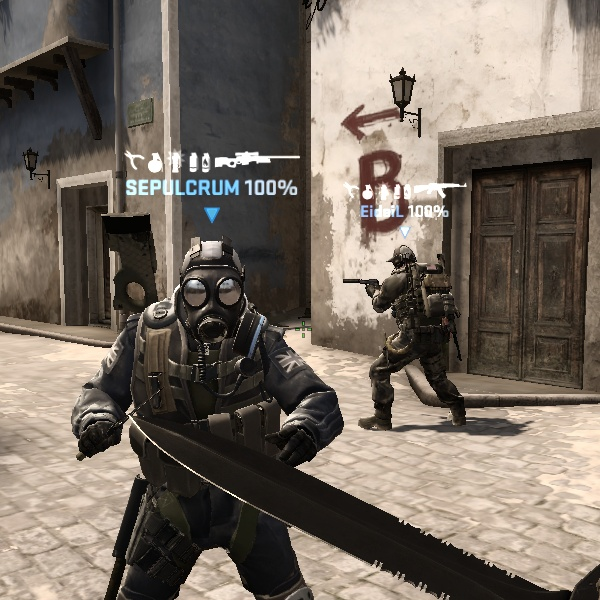ct_body: (83, 249, 347, 596), (360, 237, 468, 433)
ct_head: (174, 249, 260, 337), (383, 240, 422, 280)
